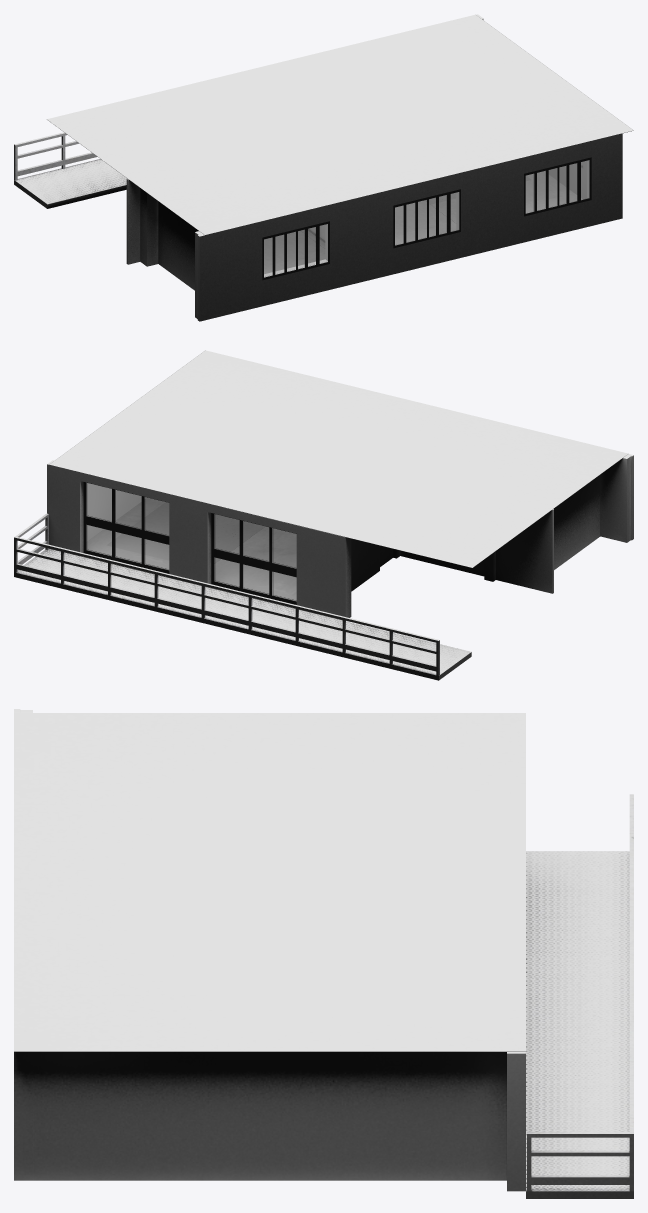
The model's file is Lab__.glb.
3 views of the same model, one above another, from view 1: azimuth 30°, elevation 25°; view 2: azimuth 150°, elevation 25°; view 3: azimuth 270°, elevation 25° (orthographic). The views are drawn at different scales.
Visible parts, largest first — view 1: roof0, wall, floor00, est_pav, w1, w3, w2, pw1, estpar, pw2, pw3; view 2: roof0, wall, est_pav, floor00, estpar, pfin1w, pfin2w, pfin1, pfin2; view 3: roof0, wall, est_pav, estpar.
Boxes of the visible parts, bbox=[...] form: roof0: bbox=[47, 14, 633, 235]; wall: bbox=[126, 14, 622, 321]; floor00: bbox=[264, 171, 582, 273]; est_pav: bbox=[14, 159, 126, 208]; w1: bbox=[525, 160, 589, 213]; w3: bbox=[264, 224, 327, 277]; w2: bbox=[395, 192, 458, 245]; pw1: bbox=[524, 157, 591, 216]; estpar: bbox=[14, 132, 97, 180]; pw2: bbox=[393, 189, 460, 248]; pw3: bbox=[262, 221, 329, 280]; roof0: bbox=[49, 350, 628, 567]; wall: bbox=[47, 454, 633, 620]; est_pav: bbox=[14, 549, 471, 680]; floor00: bbox=[80, 497, 296, 608]; estpar: bbox=[14, 513, 439, 675]; pfin1w: bbox=[214, 514, 296, 600]; pfin2w: bbox=[87, 483, 169, 569]; pfin1: bbox=[211, 513, 296, 604]; pfin2: bbox=[83, 482, 169, 573]; roof0: bbox=[14, 713, 525, 1051]; wall: bbox=[14, 709, 525, 1191]; est_pav: bbox=[526, 851, 633, 1198]; estpar: bbox=[527, 794, 633, 1191].
Size of what is drawn, in the model's own units: 19.35 by 3.81 by 14.71.
96 materials, 94 textured.
